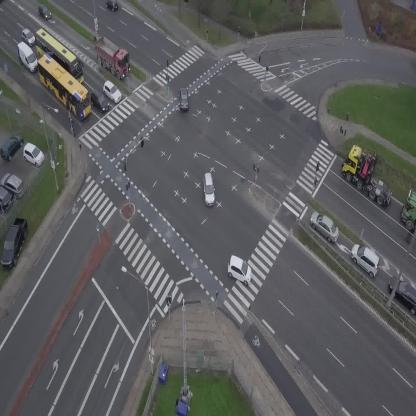bicycle: (68, 118, 75, 133)
bus: (29, 50, 100, 122), (25, 27, 93, 89)
car: (345, 240, 387, 280), (304, 208, 345, 245), (221, 254, 258, 287), (86, 87, 114, 114), (99, 79, 125, 104), (202, 172, 216, 206), (18, 27, 38, 48), (35, 3, 54, 23), (178, 87, 189, 110), (105, 0, 119, 12)
lorry: (334, 138, 398, 218), (87, 32, 139, 83), (11, 39, 42, 75), (400, 189, 416, 232)
